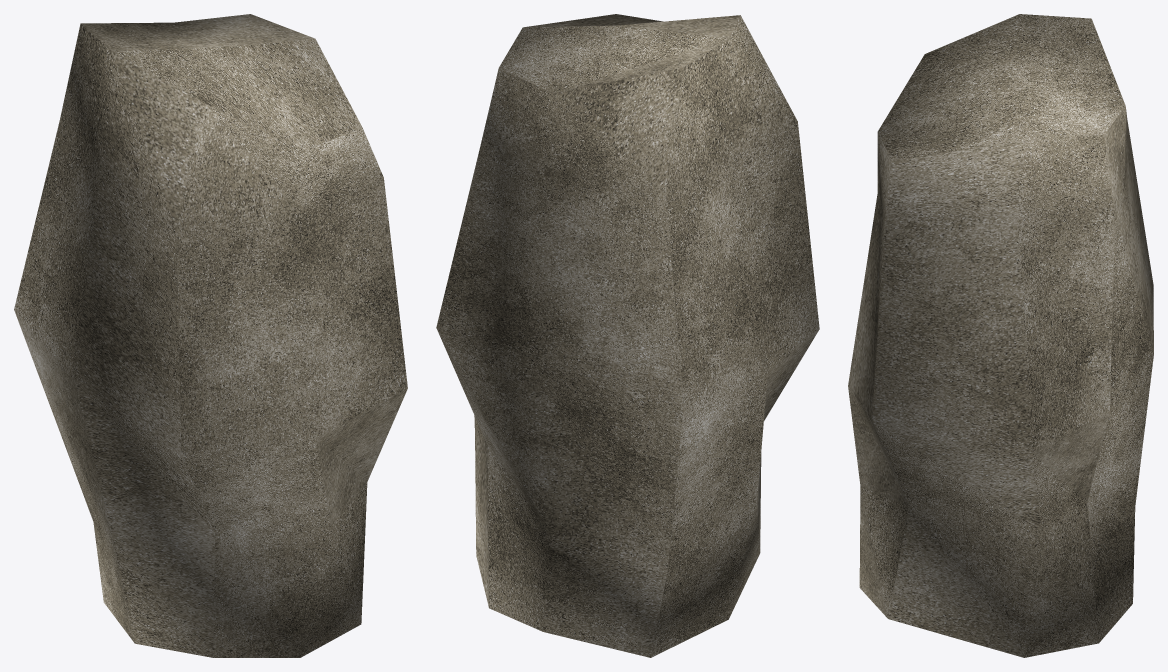
Rendered from Rock5plat.fbx.
3 renders of one model, left to right at view 1: azimuth 30°, elevation 25°; view 2: azimuth 150°, elevation 25°; view 3: azimuth 270°, elevation 25°, orthographic. The views are drawn at different scales.
Parts seen in each view (by area): view 1: Cube; view 2: Cube; view 3: Cube.
Boxes of the visible parts, box(x1,y1,x2,y2) form: Cube: box(14, 14, 407, 657); Cube: box(436, 14, 819, 657); Cube: box(848, 14, 1153, 657).
Size of the model in its own units: 326 by 640 by 323.
